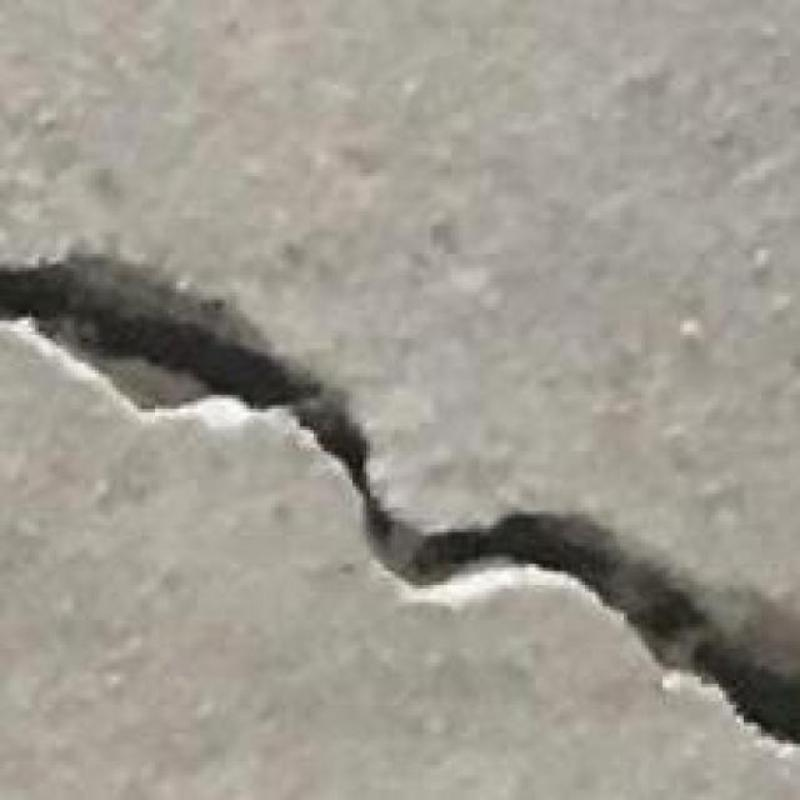crack: (0, 264, 799, 742)
